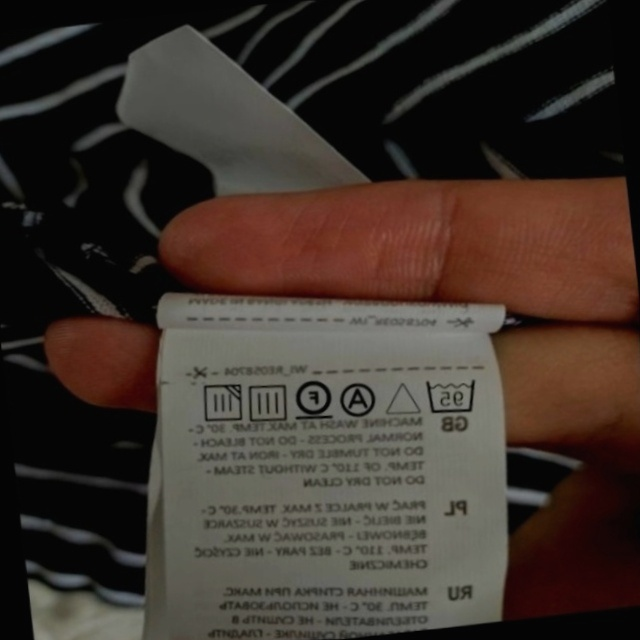95C: (418, 369, 483, 421)
bleach: (381, 373, 425, 422)
drip_dry: (241, 376, 294, 428)
drip_dry_in_shade: (193, 376, 248, 430)
dry_clean: (336, 377, 382, 422)
dry_clean_petrol_only: (288, 371, 338, 426)
